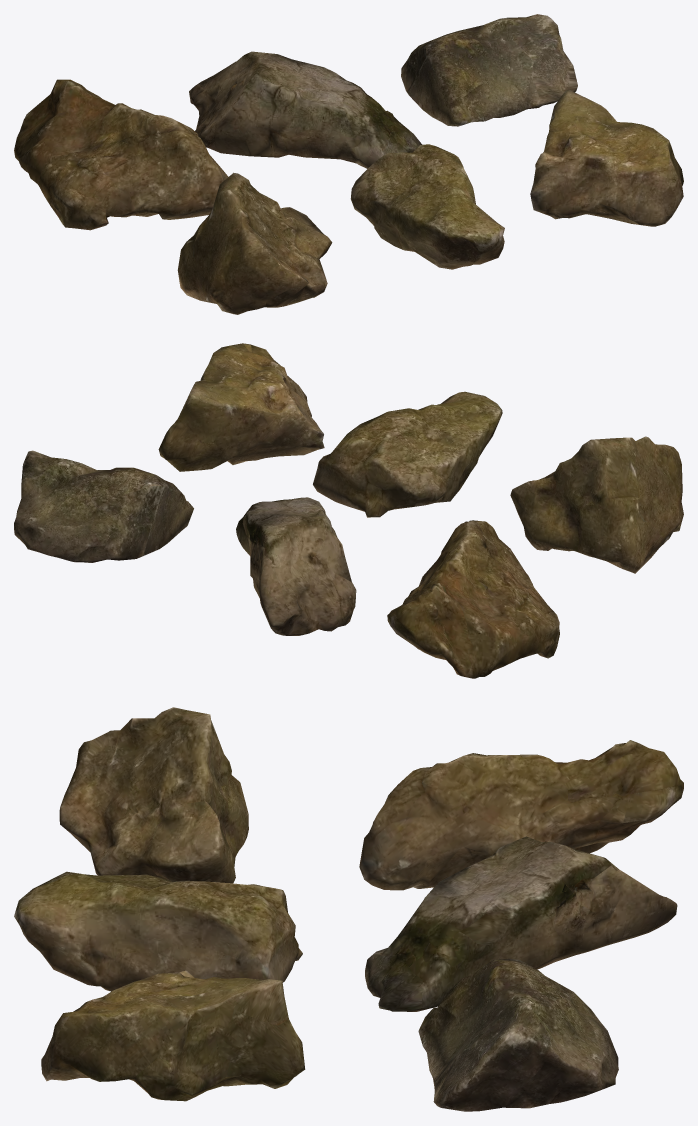
File: rock_moss_set_01.glb
3 renders of one model, top to bottom at view 1: azimuth 30°, elevation 25°; view 2: azimuth 150°, elevation 25°; view 3: azimuth 270°, elevation 25°, orthographic. The views are drawn at different scales.
Visible parts, largest first — view 1: rock_moss_set_01_rock01; view 2: rock_moss_set_01_rock01; view 3: rock_moss_set_01_rock01.
Boxes of the visible parts, x1=… form: rock_moss_set_01_rock01: x1=14, y1=14, x2=683, y2=314; rock_moss_set_01_rock01: x1=14, y1=343, x2=683, y2=678; rock_moss_set_01_rock01: x1=14, y1=707, x2=683, y2=1111.
Size of the model in its own units: 8 by 1.76 by 6.94.
1 material, 1 textured.
